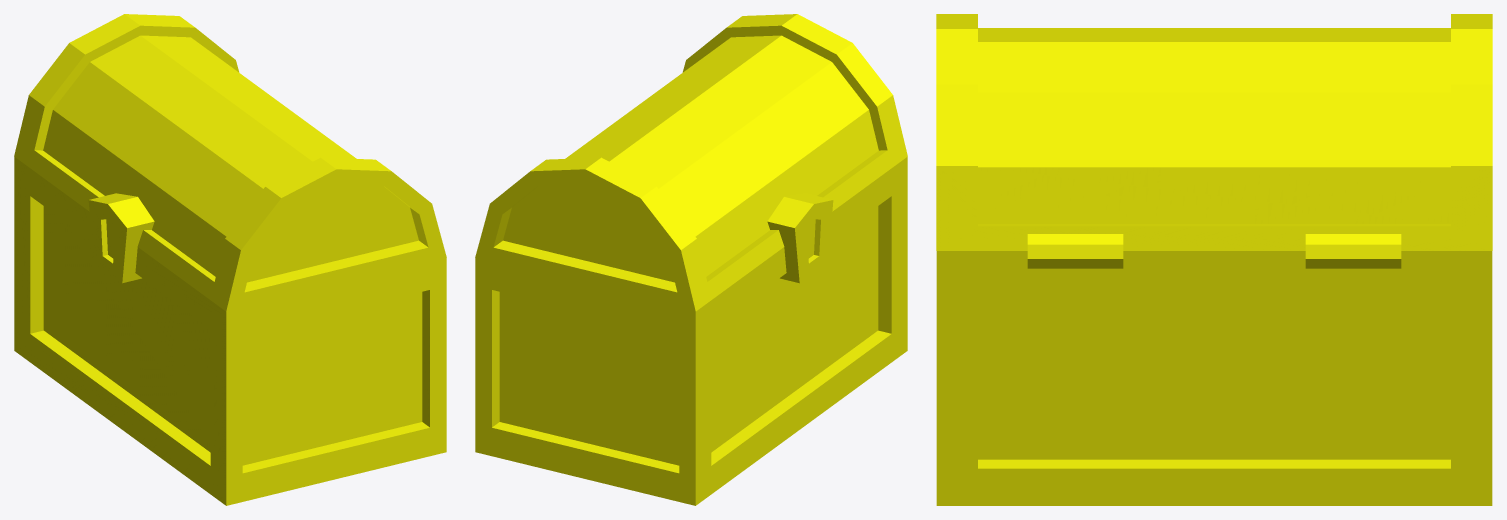
Rendered from ChestIron.glb.
The picture shows the model from 3 angles, left to right: view 1: azimuth 30°, elevation 25°; view 2: azimuth 150°, elevation 25°; view 3: azimuth 270°, elevation 25°; orthographic projection. The views are drawn at different scales.
Parts seen in each view (by area): view 1: Chest Metal, Chest Metal Cover; view 2: Chest Metal, Chest Metal Cover; view 3: Chest Metal, Chest Metal Cover.
Part boxes in pixels (bbox=[...]): Chest Metal: bbox=[14, 157, 446, 505]; Chest Metal Cover: bbox=[14, 14, 446, 311]; Chest Metal: bbox=[475, 157, 907, 505]; Chest Metal Cover: bbox=[475, 14, 907, 311]; Chest Metal: bbox=[936, 234, 1492, 505]; Chest Metal Cover: bbox=[936, 14, 1492, 250].
Size of the model in its own units: 0.6667 by 0.8069 by 1.
2 materials, 2 textured.
